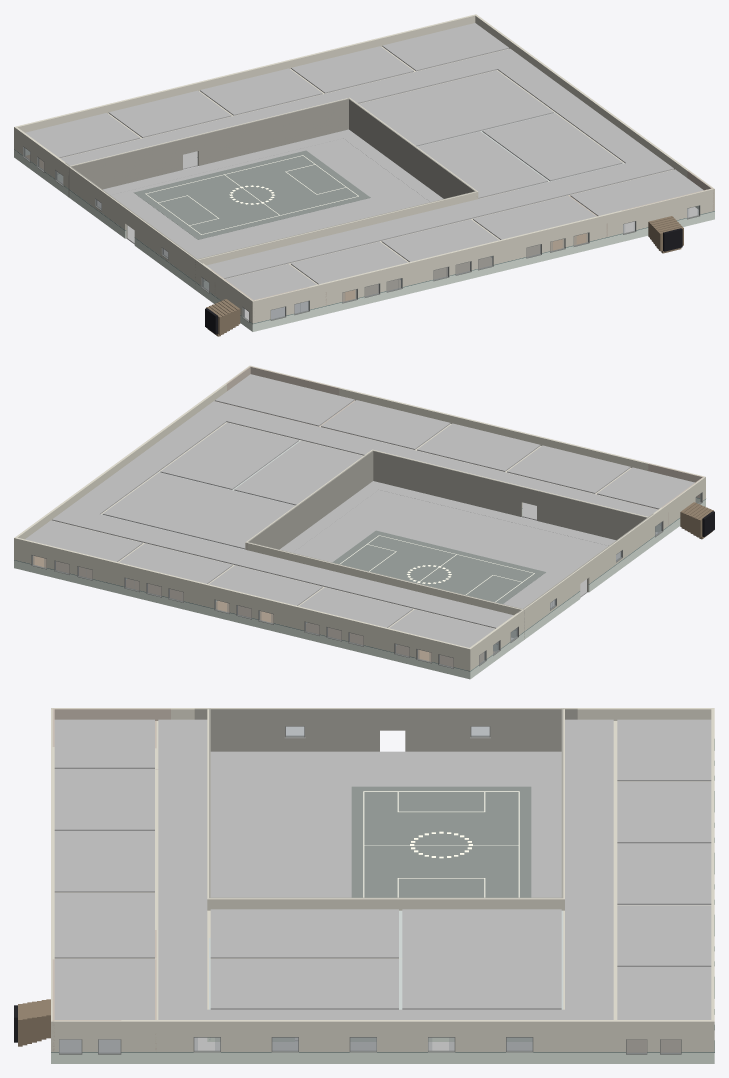
Rendered from escola_estrutura.gltf.
3 views of the same model, one above another, from view 1: azimuth 30°, elevation 25°; view 2: azimuth 150°, elevation 25°; view 3: azimuth 270°, elevation 25° (orthographic). The views are drawn at different scales.
Parts seen in each view (by area): view 1: est_00_01, est_04_01, est_01_01, est_03_01, est_02_01, est_08_08, est_00_00, est_00_08, est_05_01, est_05_04, est_05_02, est_05_03 (+75 smaller); view 2: est_00_00, est_03_00, est_01_00, est_07_00, est_05_00, est_06_00, est_01_06, est_02_00, est_04_00, est_02_06, est_04_06, est_03_06 (+75 smaller); view 3: est_00_02, est_00_05, est_00_03, est_00_04, est_00_06, est_09_00, est_09_02, est_09_04, est_09_05, est_09_01, est_09_07, est_09_03 (+78 smaller).
Part boxes in pixels (box(x1,y1,x2,y2)): est_00_01: box(42, 143, 118, 197); est_04_01: box(237, 95, 312, 150); est_01_01: box(91, 131, 167, 186); est_03_01: box(188, 107, 264, 162); est_02_01: box(140, 119, 215, 174); est_08_08: box(628, 192, 690, 253); est_00_00: box(14, 115, 90, 177); est_00_08: box(238, 287, 301, 331); est_05_01: box(285, 83, 361, 138); est_05_04: box(370, 140, 445, 200); est_05_02: box(314, 99, 389, 159); est_05_03: box(342, 120, 418, 180); est_00_00: box(422, 624, 497, 679); est_03_00: box(278, 589, 353, 643); est_01_00: box(374, 613, 449, 667); est_07_00: box(86, 542, 161, 597); est_05_00: box(182, 566, 257, 620); est_06_00: box(134, 554, 209, 608); est_01_06: box(541, 491, 615, 545); est_02_00: box(326, 601, 401, 655); est_04_00: box(230, 577, 305, 632); est_02_06: box(493, 479, 567, 534); est_04_06: box(397, 456, 471, 510); est_03_06: box(445, 467, 519, 522); est_00_02: box(480, 708, 558, 783); est_00_05: box(246, 708, 324, 783); est_00_03: box(402, 708, 480, 783); est_00_04: box(324, 708, 402, 783); est_00_06: box(168, 708, 246, 783); est_09_00: box(636, 1005, 714, 1063); est_09_02: box(480, 1015, 558, 1063); est_09_04: box(324, 1015, 402, 1063); est_09_05: box(246, 1015, 324, 1063); est_09_01: box(558, 1015, 636, 1063); est_09_07: box(90, 1015, 168, 1063); est_09_03: box(402, 1015, 480, 1063).
Bounding box in the file's own units: 79.82 × 6.35 × 71.82.
